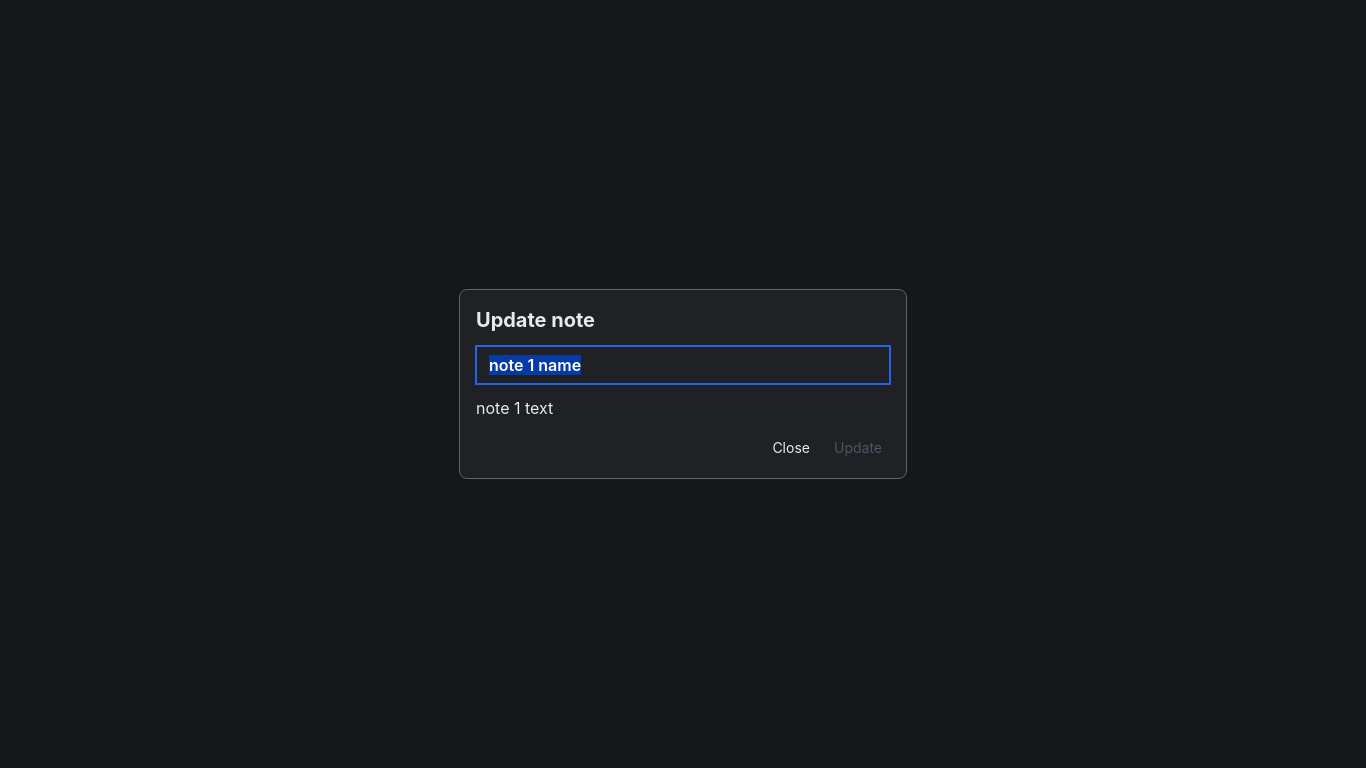
Test: UpdateNote › should disable update button if title input and text input are empty
Clear the field showing "note 1 name": (683, 365) x1=476 y1=346 x2=890 y2=384
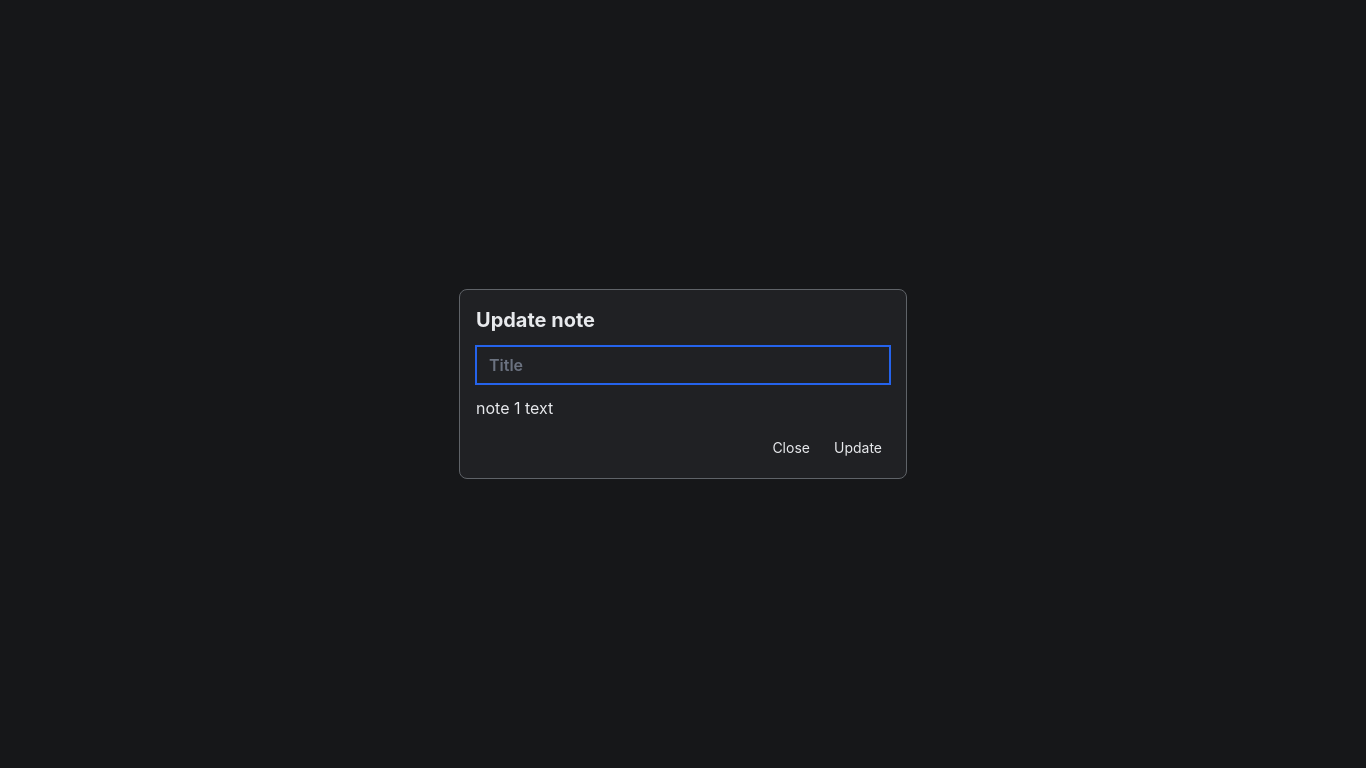
Clear the text box showing "note 1 text": (683, 408) x1=476 y1=396 x2=890 y2=420
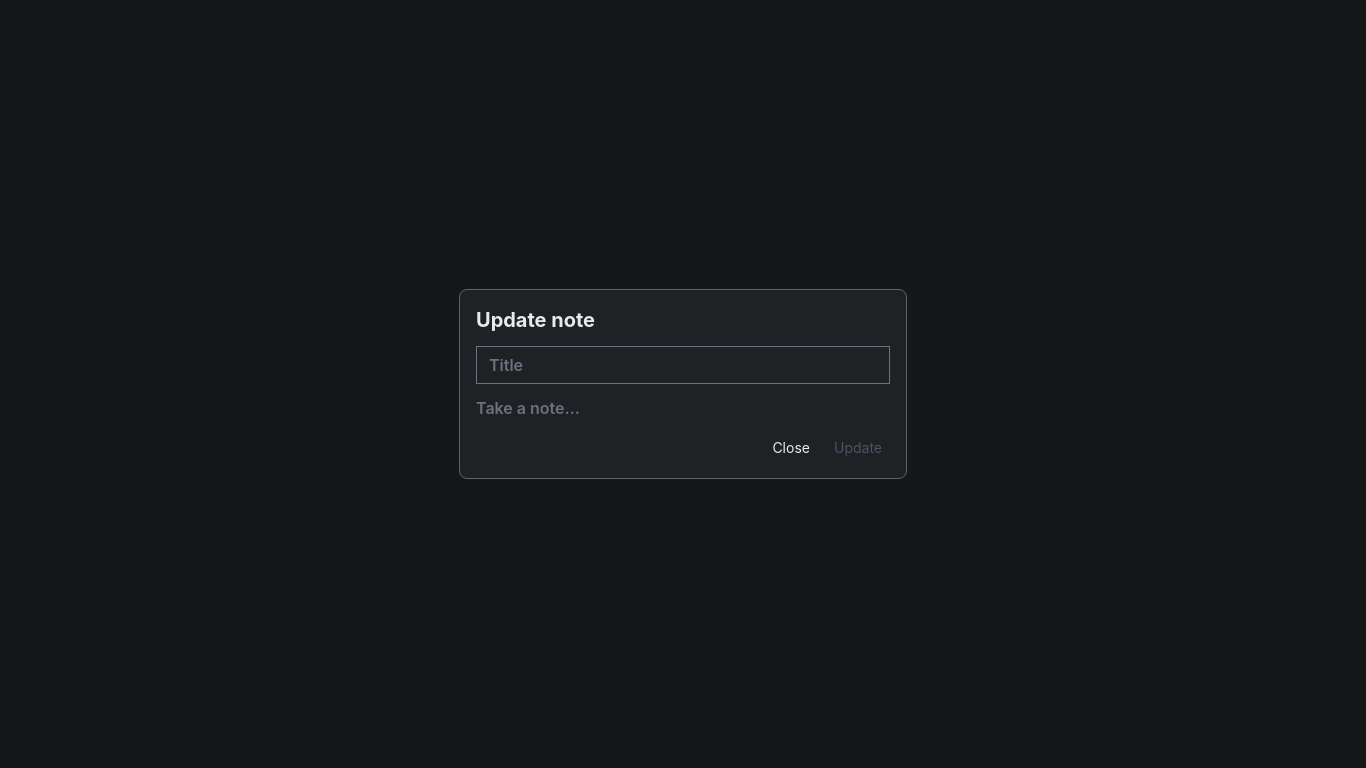
Expected: the button with aria-label "update note" is disabled, x1=826 y1=434 x2=890 y2=462
